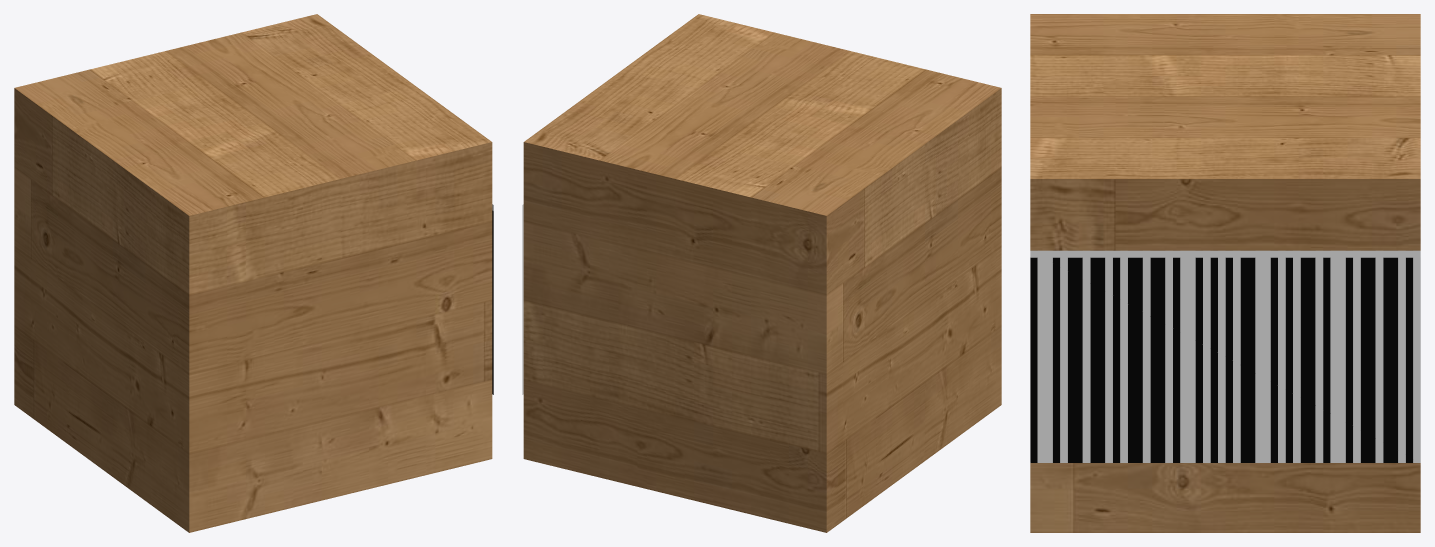
File: caixa C2.dae
3 renders of one model, left to right at view 1: azimuth 30°, elevation 25°; view 2: azimuth 150°, elevation 25°; view 3: azimuth 270°, elevation 25°, orthographic. The views are drawn at different scales.
Visible parts, largest first — view 1: Cube; view 2: Cube; view 3: Cube, Plane.
Boxes of the visible parts, x1,y1,x2,y2 form: Cube: [14, 14, 492, 532]; Cube: [523, 14, 1001, 532]; Cube: [1030, 14, 1420, 532]; Plane: [1030, 250, 1420, 462].
Size of the model in its own units: 0.1005 by 0.1 by 0.1.
Materials: 2 (2 with a texture image).
